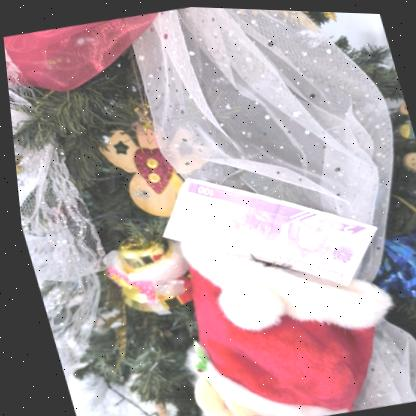vef_back: (140, 141, 389, 317)
